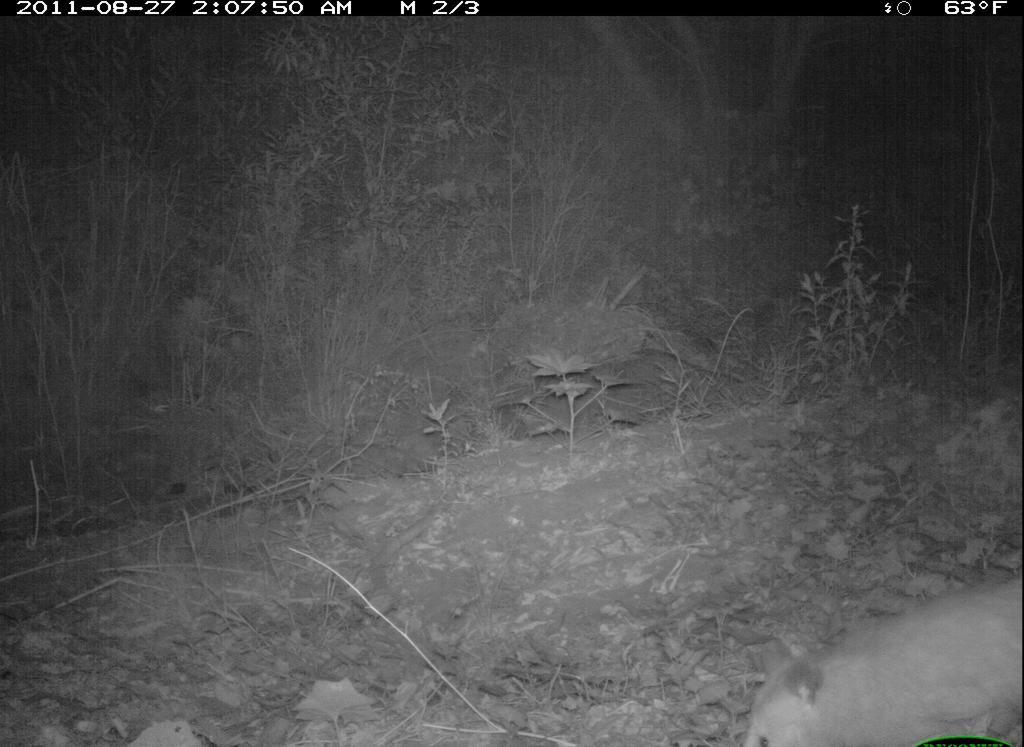opossum: (739, 557, 1023, 747)
